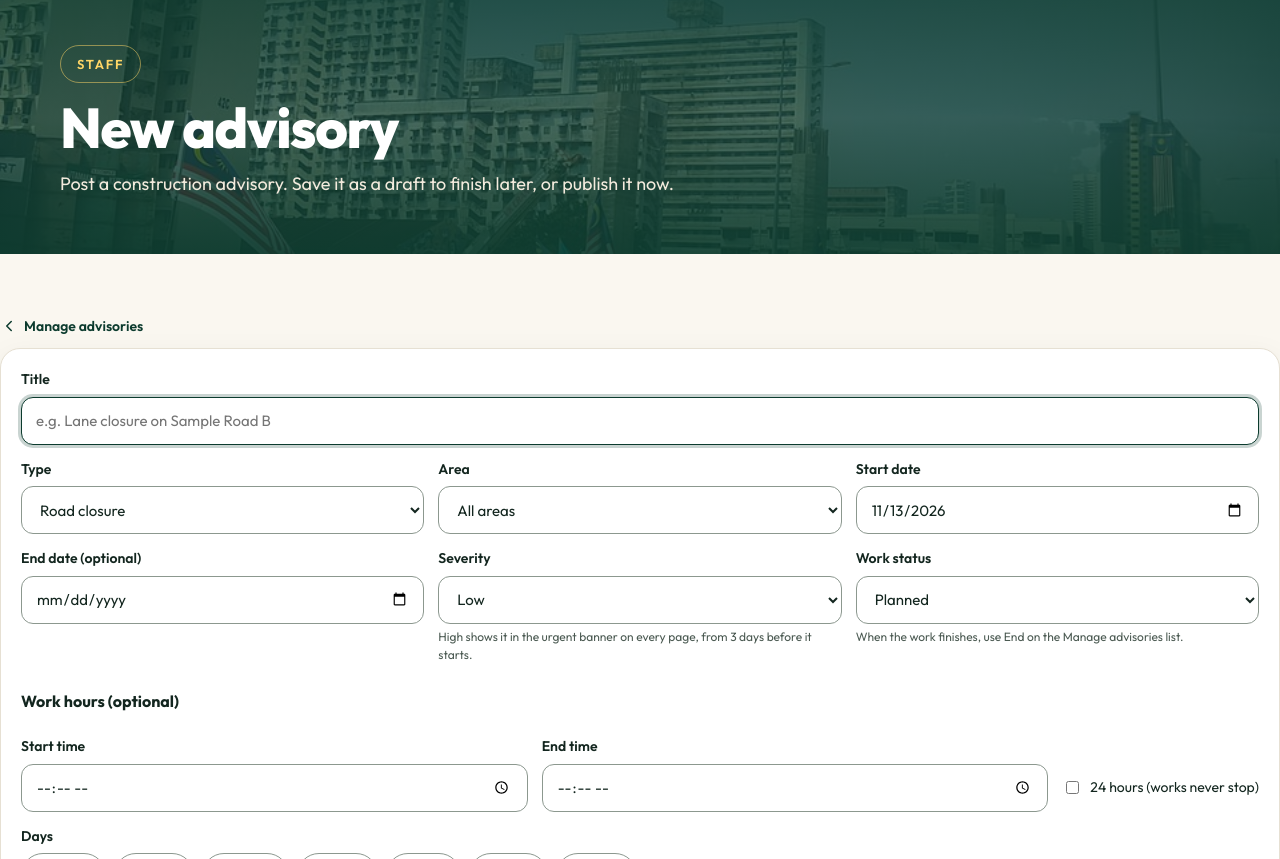
Advisory form: checks before saving › refuses an end date before the start date
This screenshot has width=1280, height=859.
In the field labelled "Title": {"x": 640, "y": 420} [21,396,1259,444], type "Lane closure"
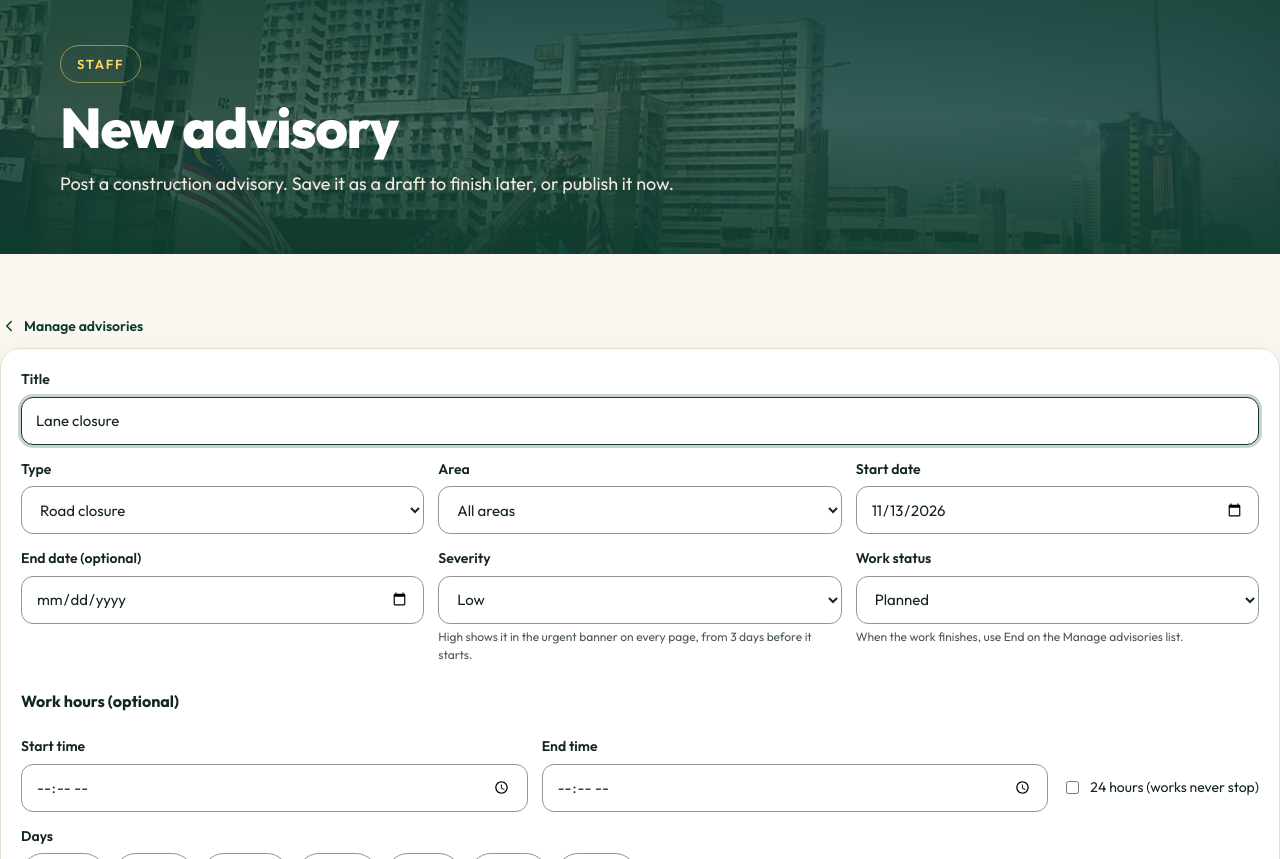
In the date field labelled "Start date": {"x": 1057, "y": 510} [856,486,1259,534], type "2026-12-10"
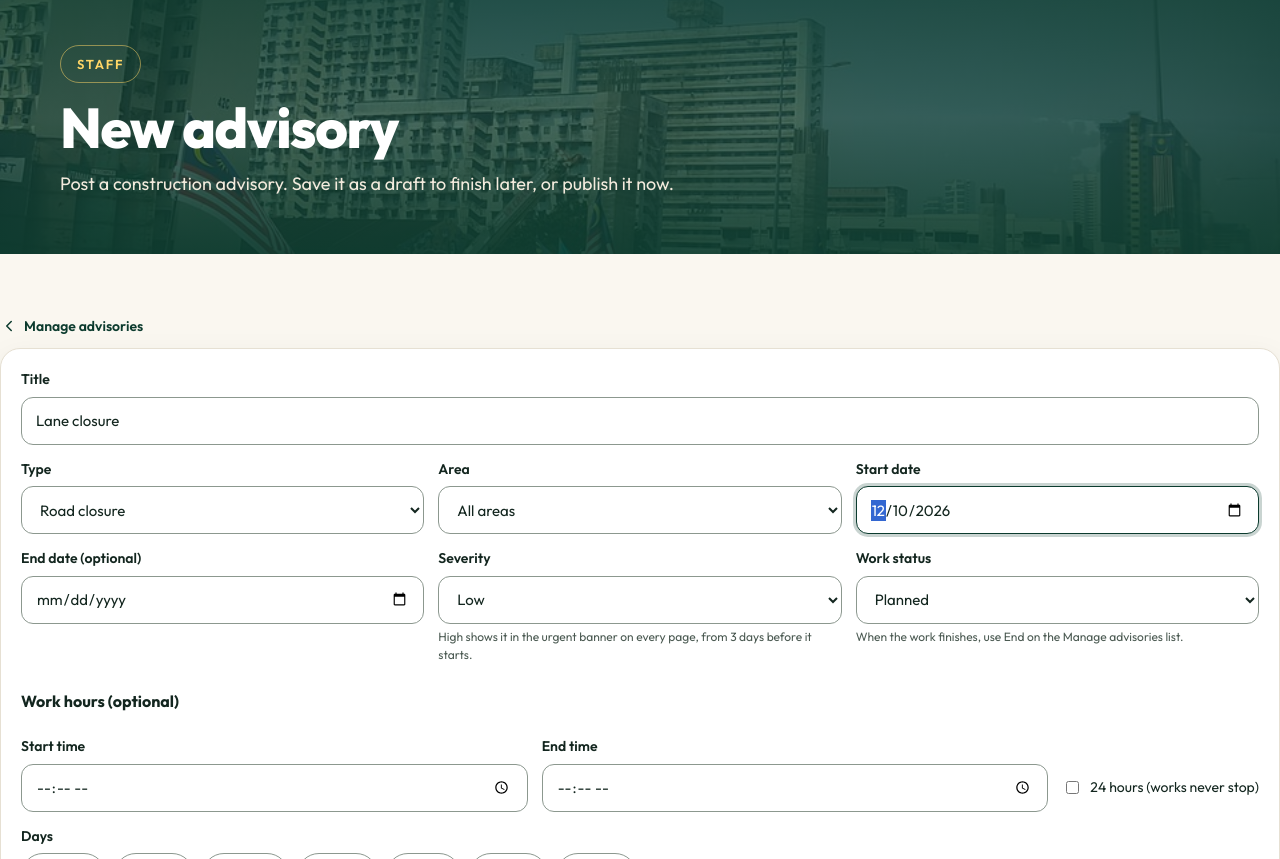
In the date field labelled "End date (optional)": {"x": 223, "y": 600} [21,576,424,624], type "2026-12-01"
(page scrolled)
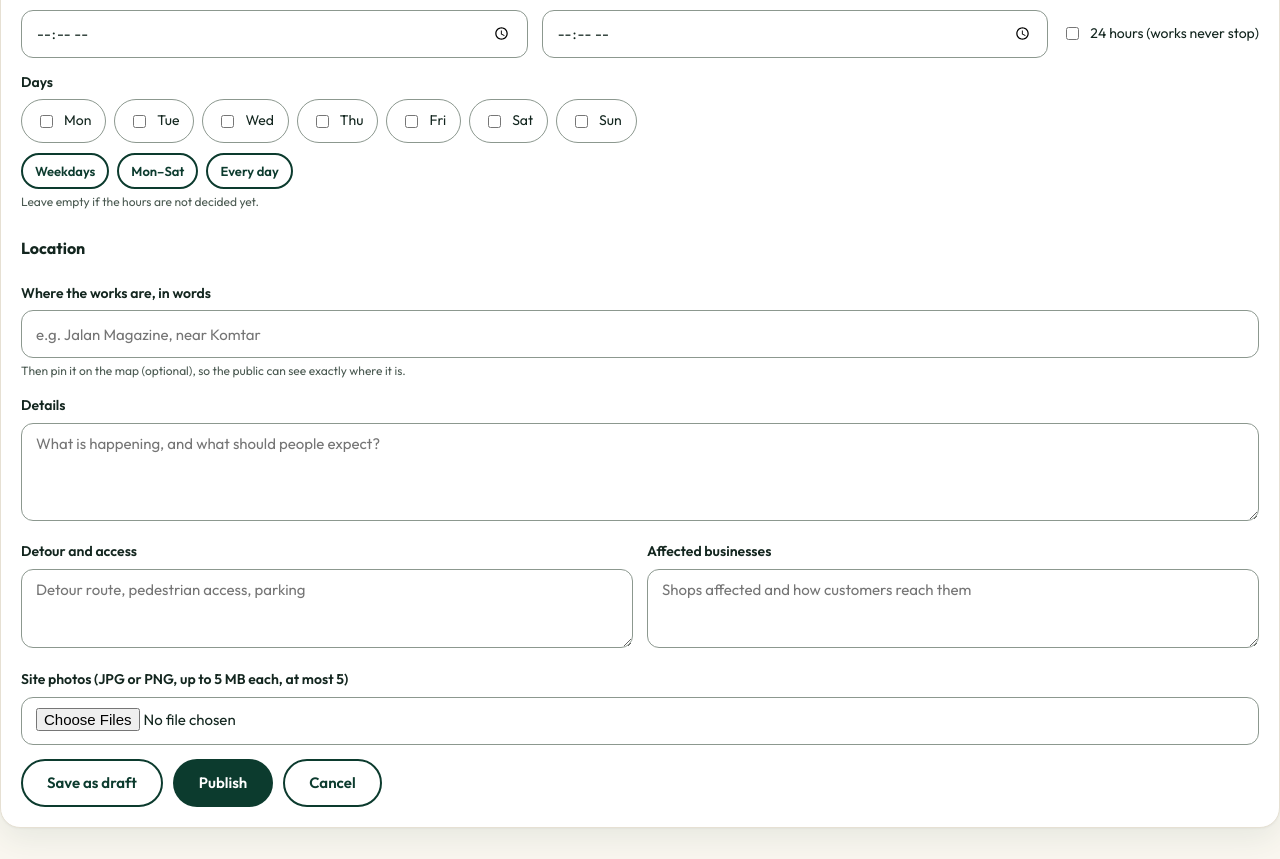
Click the button "Save as draft": {"x": 92, "y": 783} [21,759,163,807]
(page scrolled)
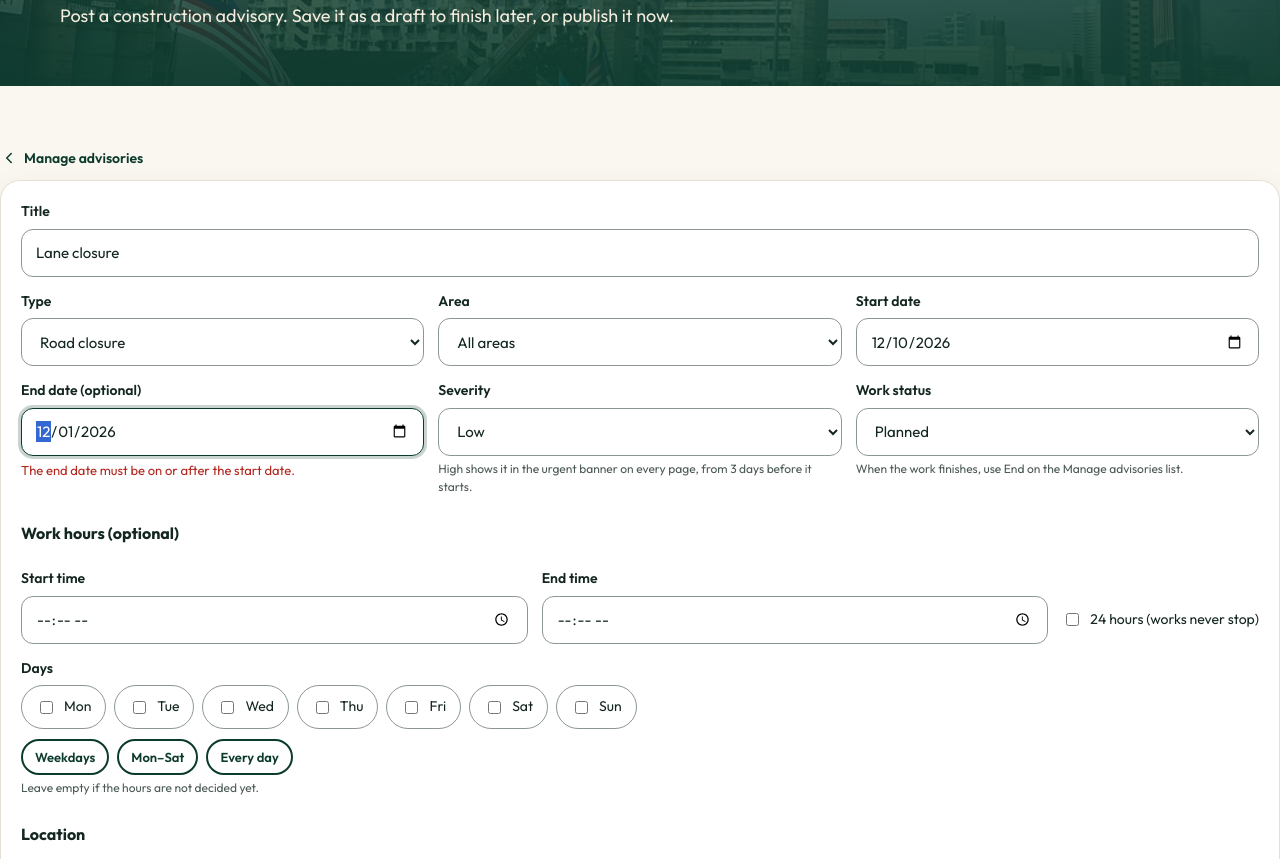
expect the text "The end date must be on or after the start date." is shown: met, box [21,462,295,478]
